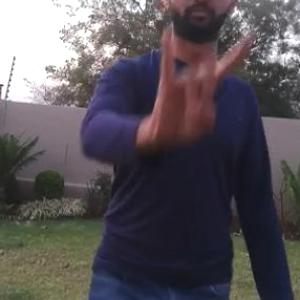takeoff-hand: (149, 12, 258, 144)
